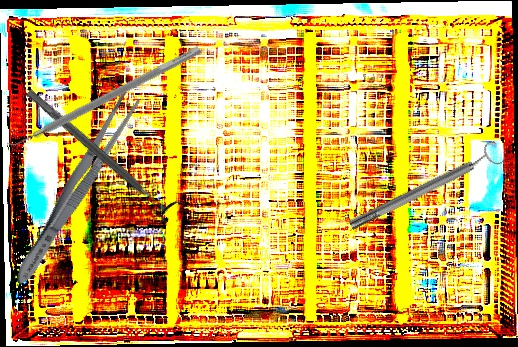Dressing Forceps: (6, 85, 146, 292)
Fixation Ring: (18, 80, 184, 226), (344, 139, 506, 237)
Spatula Surgical: (4, 37, 202, 155)
